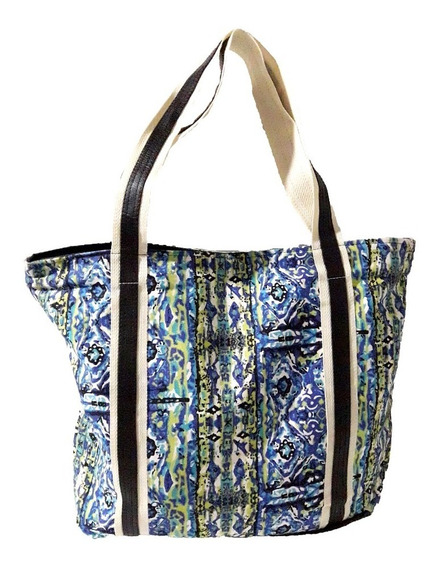cartera: (25, 28, 417, 540)
